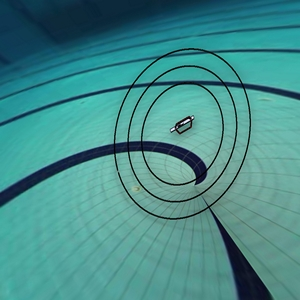circle: (99, 43, 262, 224)
submarine: (167, 109, 201, 143)
